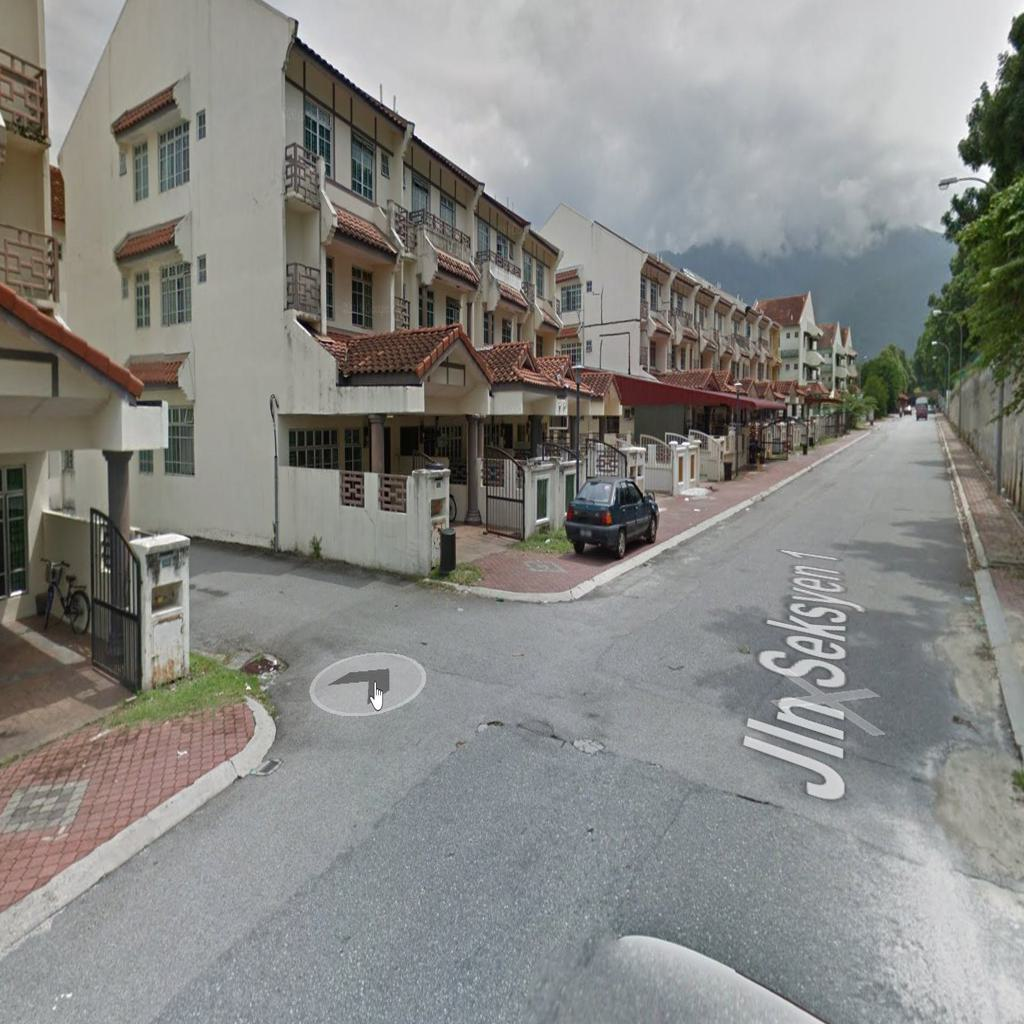Junction: (196, 531, 619, 815)
